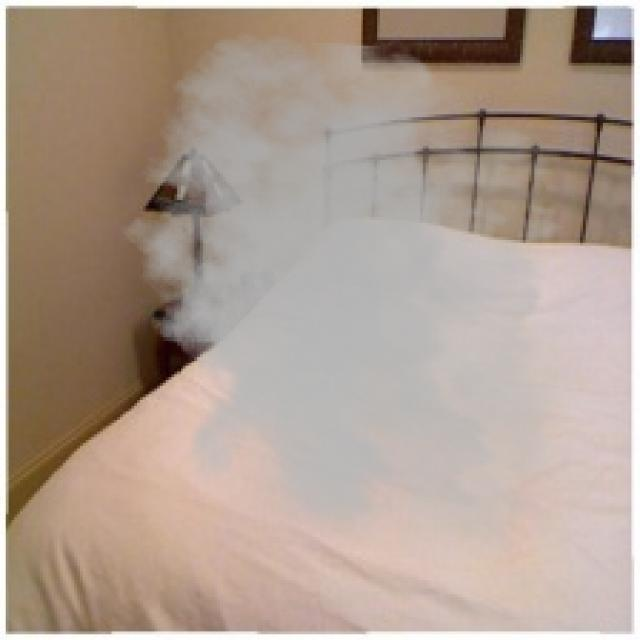Smoke: (106, 32, 623, 574)
